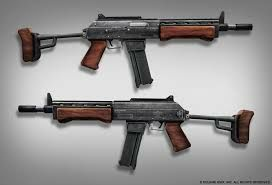ak47: (19, 94, 255, 170), (19, 11, 253, 86)
